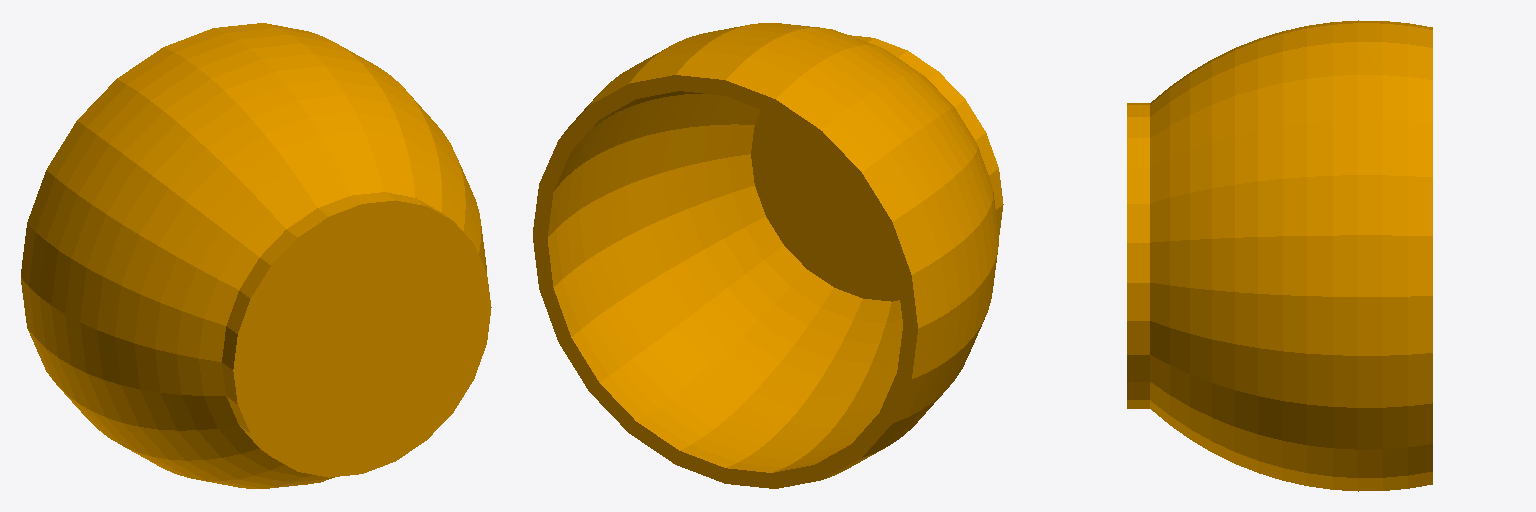
URDF robot description (indenter):
<robot name="indenter">
	<!-- <link name="world">
        </link>

        <joint name="world_to_indenter" type="prismatic">
                <parent link="world"/>
                <child link="indenter"/>
                <origin rpy="0.0 0.0 0.0" xyz="0.0 0.0 0.0"/>
                <axis xyz="0 1 0"/>
                <dynamics damping="0.0" friction="0.0"/>
                <limit lower="0.0" upper="0.4" velocity="1e9" effort="1e9"/>
        </joint> -->

	<link name="indenter">
		<visual>
			<origin rpy="0.0 0.0 0.0" xyz="0.0 0.0 0.0"/>
			<geometry>
				<mesh filename="../../meshes/target_objects/bowl_f_shapenet.obj"/>
			</geometry>
		</visual>
		<collision>
			<origin rpy="0.0 0.0 0.0" xyz="0.0 0.0 0.0"/>
			<geometry>
				<mesh filename="../../meshes/target_objects/bowl_f_shapenet.obj"/>
			</geometry>
		</collision>
		<inertial>
			<origin rpy="0.0 0.0 0.0" xyz="0.0 -8.64389e-3 0.0"/>
			<mass value="0.00224114"/>
			<inertia ixx="6.25553e-8" iyy="4.07645e-8" izz="6.25353e-8" ixy="0.0" ixz="4.69820e-15" iyz="0.0"/>
		</inertial>
	</link>
</robot>

--- Facts derived from the render (not from the file) ---
The picture shows the robot from 3 angles, left to right: view 1: azimuth 30°, elevation 25°; view 2: azimuth 150°, elevation 25°; view 3: azimuth 270°, elevation 25°; orthographic projection.
Model indenter with 1 links and 0 joints (none), rooted at indenter, posed all joints at 0.
Links seen in each view (by area): view 1: indenter; view 2: indenter; view 3: indenter.
Boxes of the visible links, <box> form: indenter: <box>21,23,491,488</box>; indenter: <box>533,23,1003,488</box>; indenter: <box>1127,20,1432,491</box>.
Bounding box of the posed robot: 0.2632 × 0.1709 × 0.2632 m (x, y, z).
Meshes: 1 distinct files referenced, 1 mesh visuals loaded (1 OBJ).